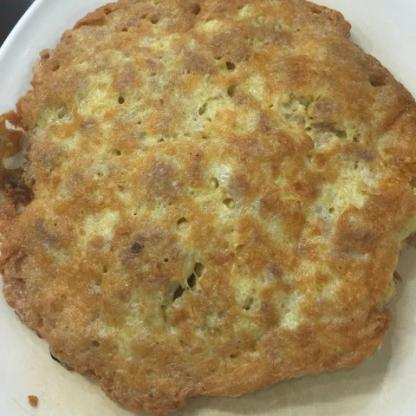Omelette: (0, 7, 415, 415)
